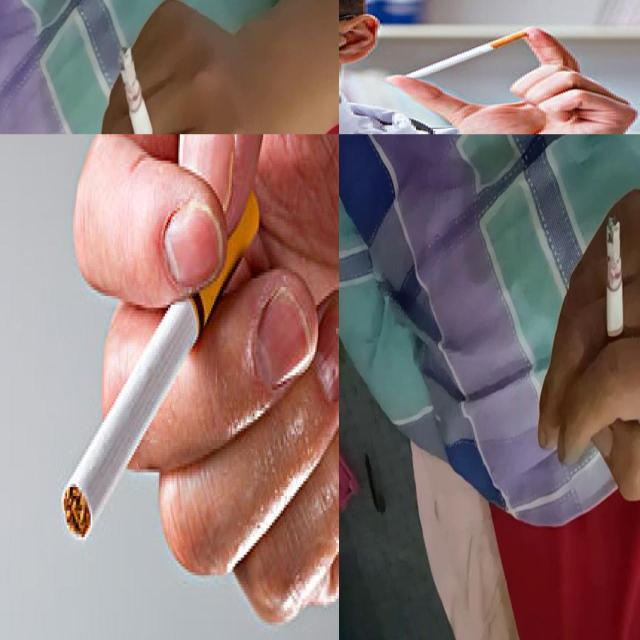smoking: (58, 298, 192, 546), (406, 32, 530, 80), (119, 46, 161, 134), (606, 216, 624, 370)
